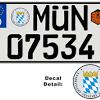0: (6, 34, 23, 60)
3: (60, 34, 77, 61)
4: (78, 32, 95, 59)
5: (41, 33, 59, 60)
7: (25, 33, 40, 60)
M: (33, 4, 50, 32)
N: (71, 4, 89, 32)
ue: (51, 5, 69, 32)
